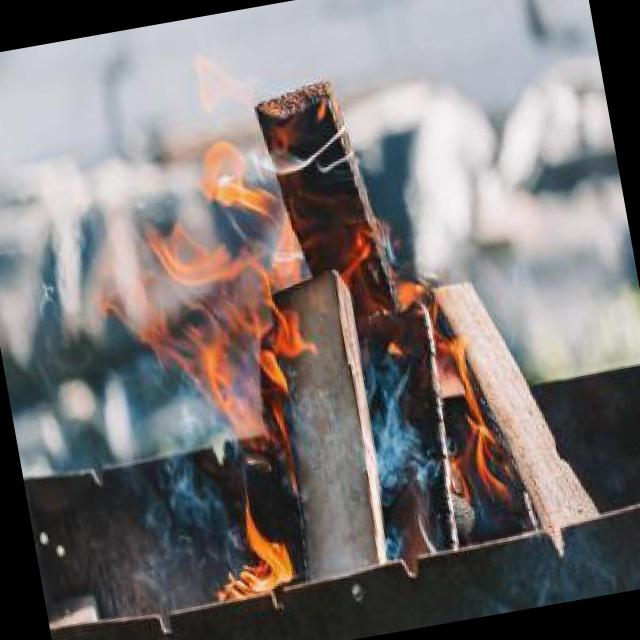Fire: (89, 98, 529, 613)
